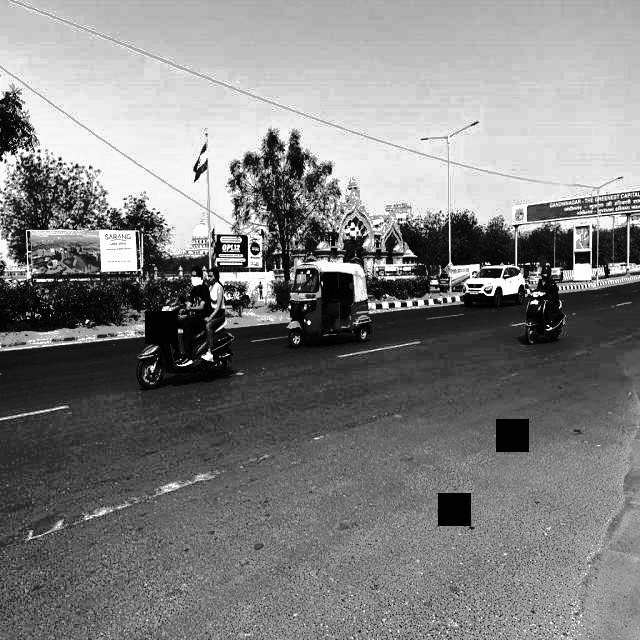Auto-Rickshaw: (281, 258, 384, 356)
Bike: (142, 262, 245, 393), (522, 262, 563, 352)
Car: (458, 262, 535, 303)
